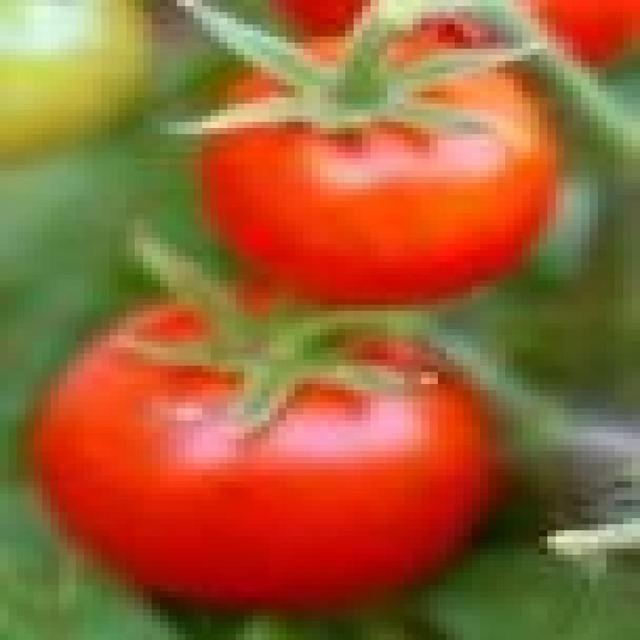Healthy Fruit: (177, 106, 313, 305)
